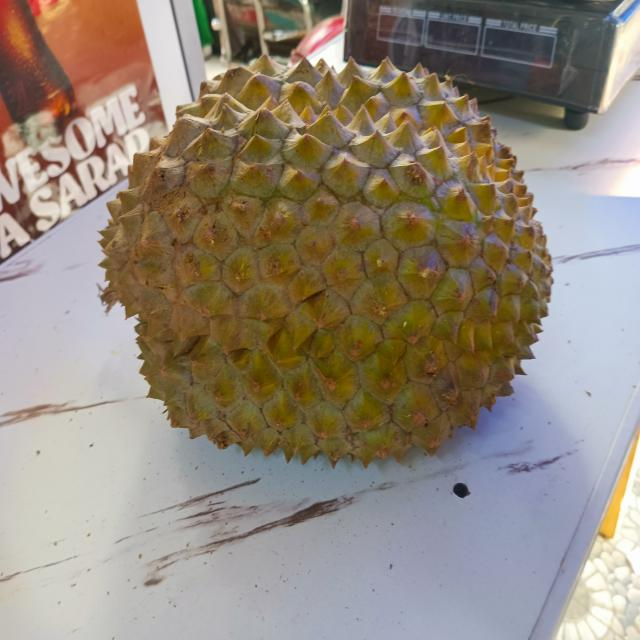mature: (91, 58, 549, 465)
